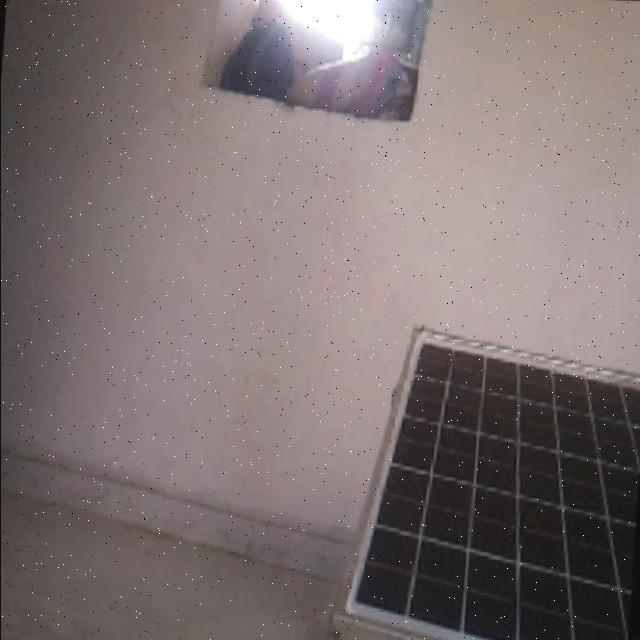Normal Solar Panel: (348, 323, 640, 640)
